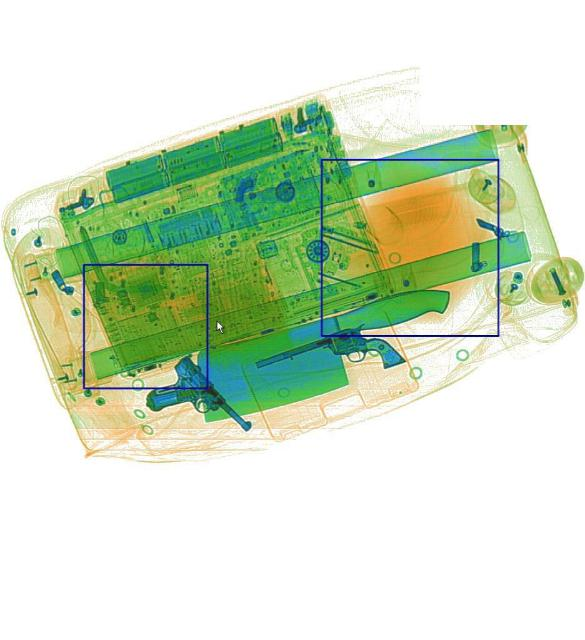Gun: (252, 311, 405, 409), (137, 353, 252, 467)
Knife: (185, 277, 466, 425)
